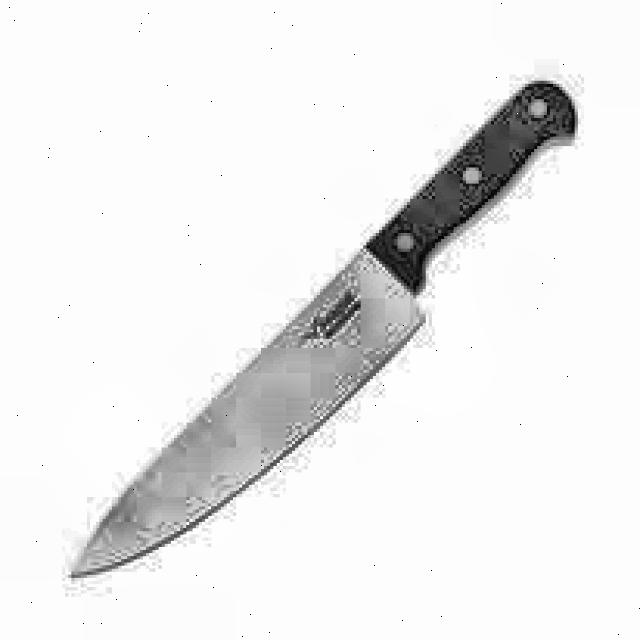knife: (74, 81, 577, 577)
